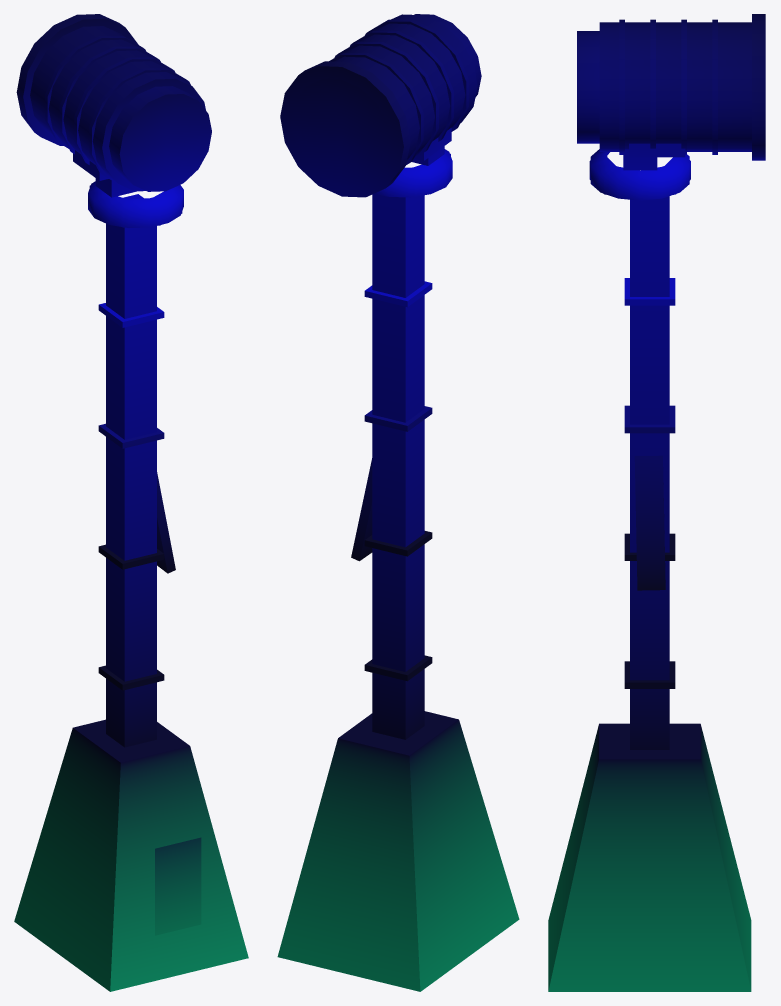
The model's file is spotlight_damaged.glb.
3 renders of one model, left to right at view 1: azimuth 30°, elevation 25°; view 2: azimuth 150°, elevation 25°; view 3: azimuth 270°, elevation 25°, orthographic. The views are drawn at different scales.
Parts seen in each view (by area): view 1: lod0_L_SpotLight, lod0_L_SpotBattery, lod0_L_SpotRotar, lod1_L_SpotBattery; view 2: lod0_L_SpotLight, lod0_L_SpotBattery, lod1_L_SpotBattery, lod0_L_SpotRotar; view 3: lod0_L_SpotLight, lod0_L_SpotBattery, lod0_L_SpotRotar.
Part boxes in pixels (<box>): lod0_L_SpotLight: <box>14,194,248,991</box>; lod0_L_SpotBattery: <box>16,14,211,191</box>; lod0_L_SpotRotar: <box>73,150,183,227</box>; lod1_L_SpotBattery: <box>24,20,209,189</box>; lod0_L_SpotLight: <box>277,193,519,991</box>; lod0_L_SpotBattery: <box>280,14,481,197</box>; lod1_L_SpotBattery: <box>280,67,403,195</box>; lod0_L_SpotRotar: <box>375,128,452,197</box>; lod0_L_SpotLight: <box>548,196,751,991</box>; lod0_L_SpotBattery: <box>577,14,765,160</box>; lod0_L_SpotRotar: <box>590,143,689,200</box>.
Size of the model in its own units: 3 by 18.3 by 3.87.
